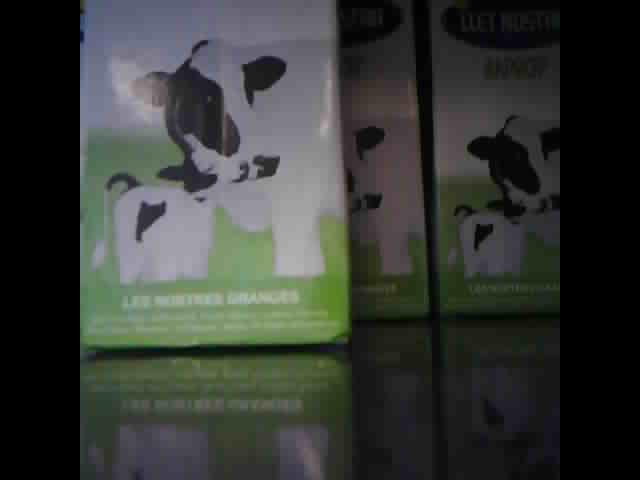leche: (82, 2, 342, 352), (429, 5, 559, 318), (344, 3, 425, 322)
